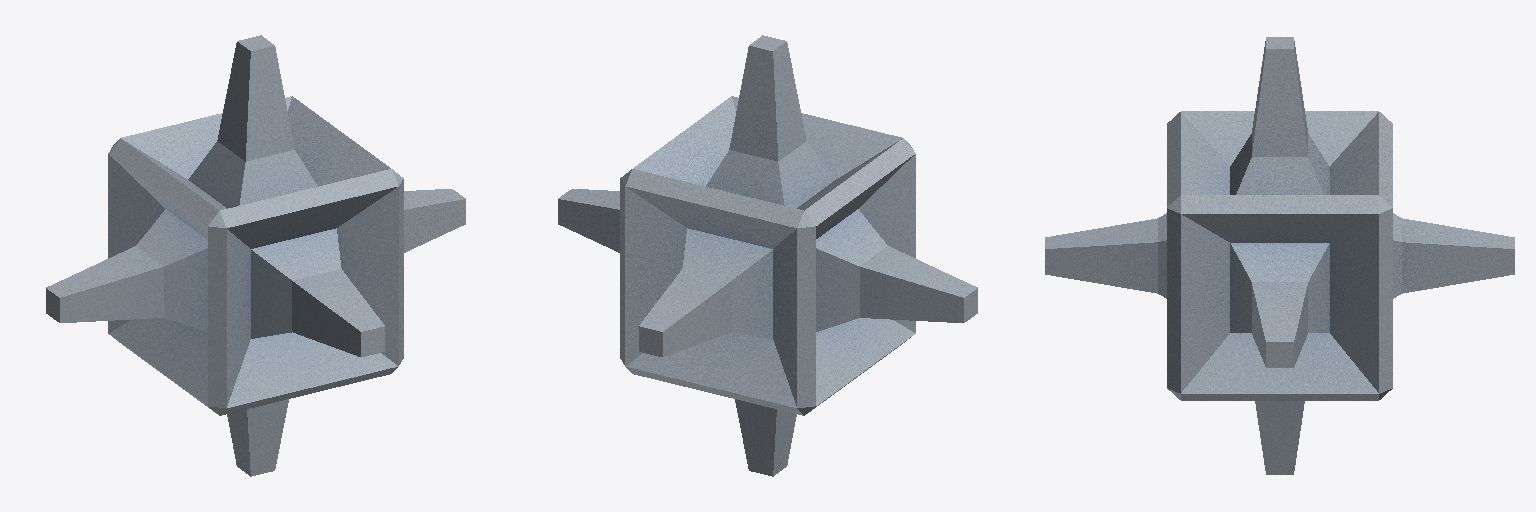
3 renders of one model, left to right at view 1: azimuth 30°, elevation 25°; view 2: azimuth 150°, elevation 25°; view 3: azimuth 270°, elevation 25°, orthographic.
Parts seen in each view (by area): view 1: Cube1_default.001; view 2: Cube1_default.001; view 3: Cube1_default.001.
Boxes of the visible parts, x1=… form: Cube1_default.001: x1=46, y1=35, x2=465, y2=476; Cube1_default.001: x1=558, y1=35, x2=977, y2=476; Cube1_default.001: x1=1045, y1=37, x2=1514, y2=474.
Bounding box in the file's own units: 4.14 × 4.14 × 4.14.
Materials: 1 (1 with a texture image).